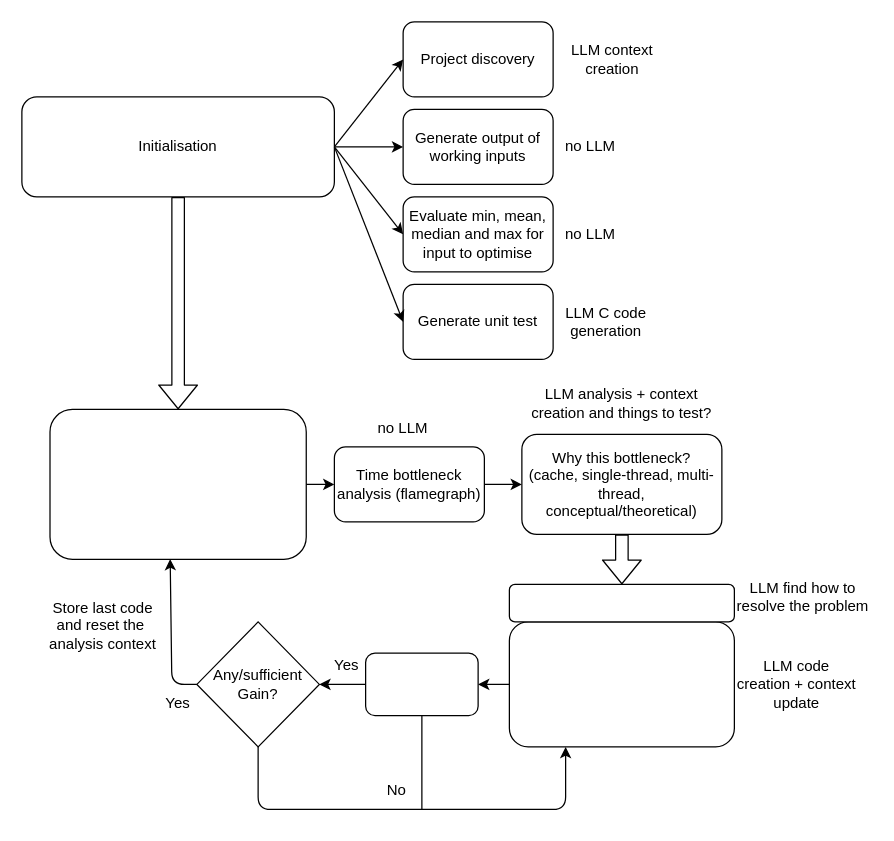
The diagram is 894 pixels wide and 841 high, and some of its shapes have lost their labels. The box of each missing label's shape, as (x1, y1, x2, y2) in pixels:
Compilable?: (364, 652, 478, 716)
Generate the code solving the optimisation to do (founded in previous step): (508, 621, 734, 747)
Main Optimiser Loop: (49, 408, 306, 559)
Specific Optimisation finder: (508, 583, 734, 622)
